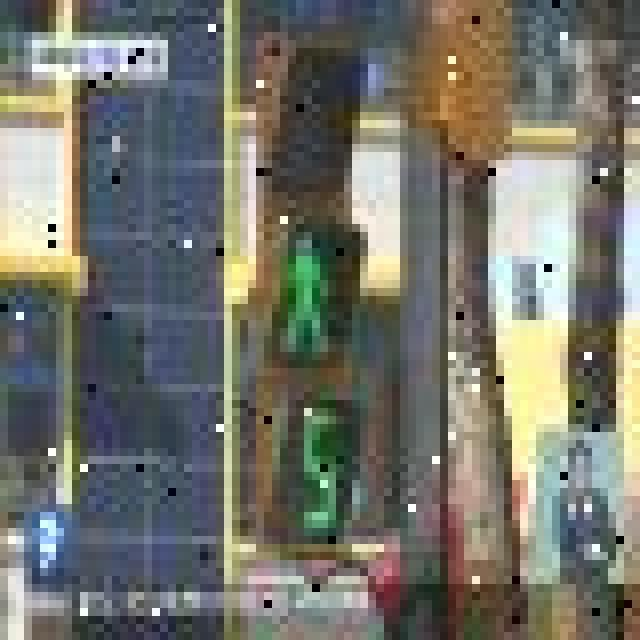greenlight: (249, 32, 381, 387)
